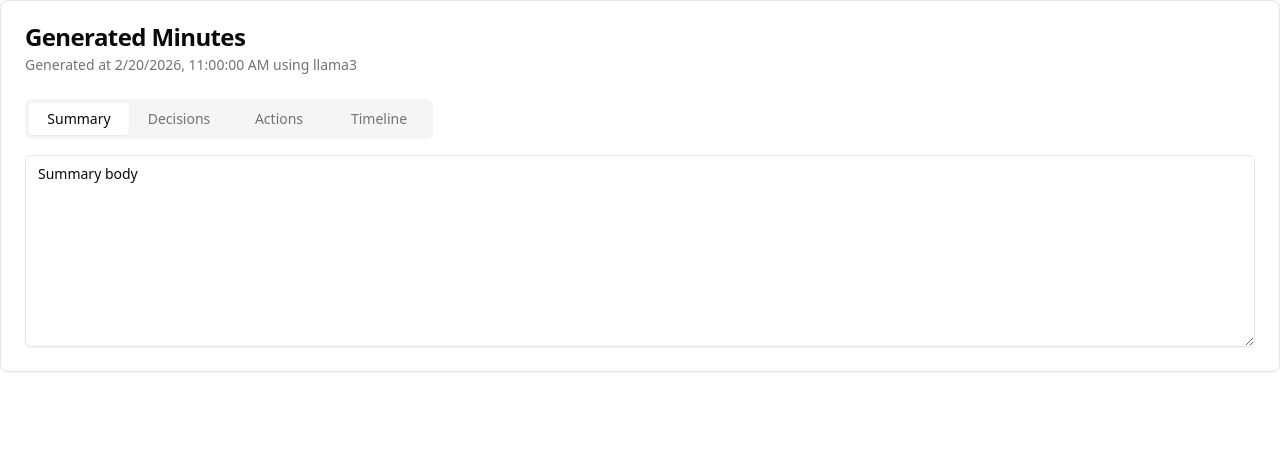
it: GeneratedMinutesDisplay › renders empty timeline message when no timeline exists
Click the tab "Timeline". click: {"x": 379, "y": 119}
box: [329,103,429,135]
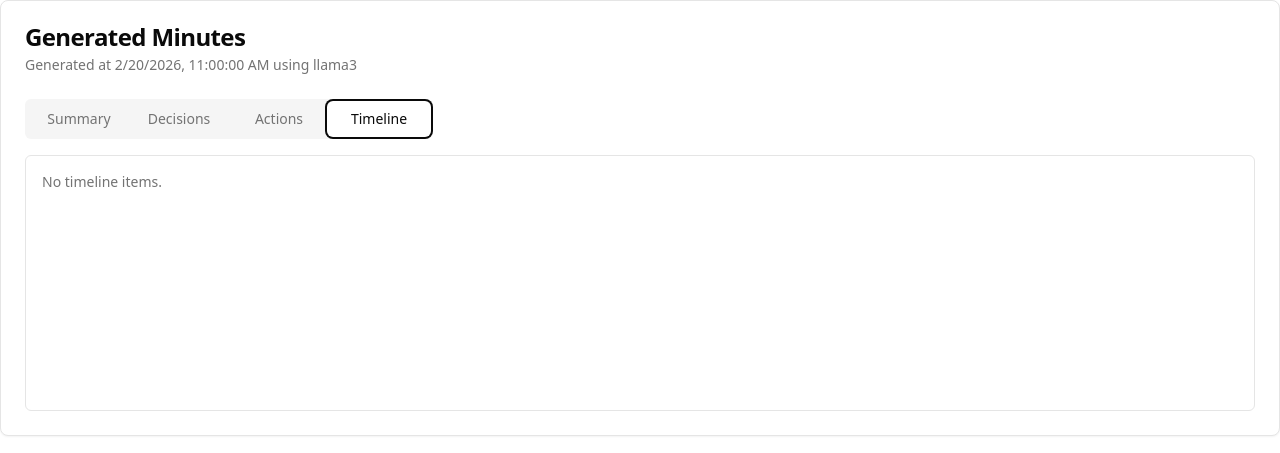
Result: the text "No timeline items." is shown at [42,172,162,191]
